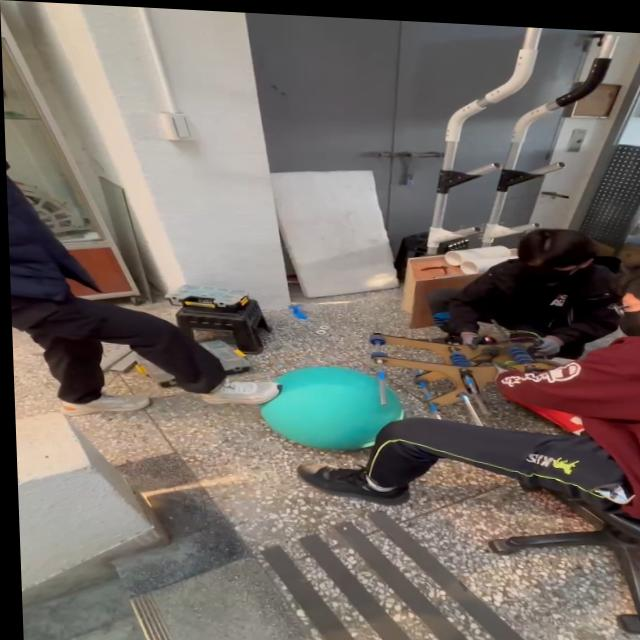ALGAE: (256, 362, 407, 455)
